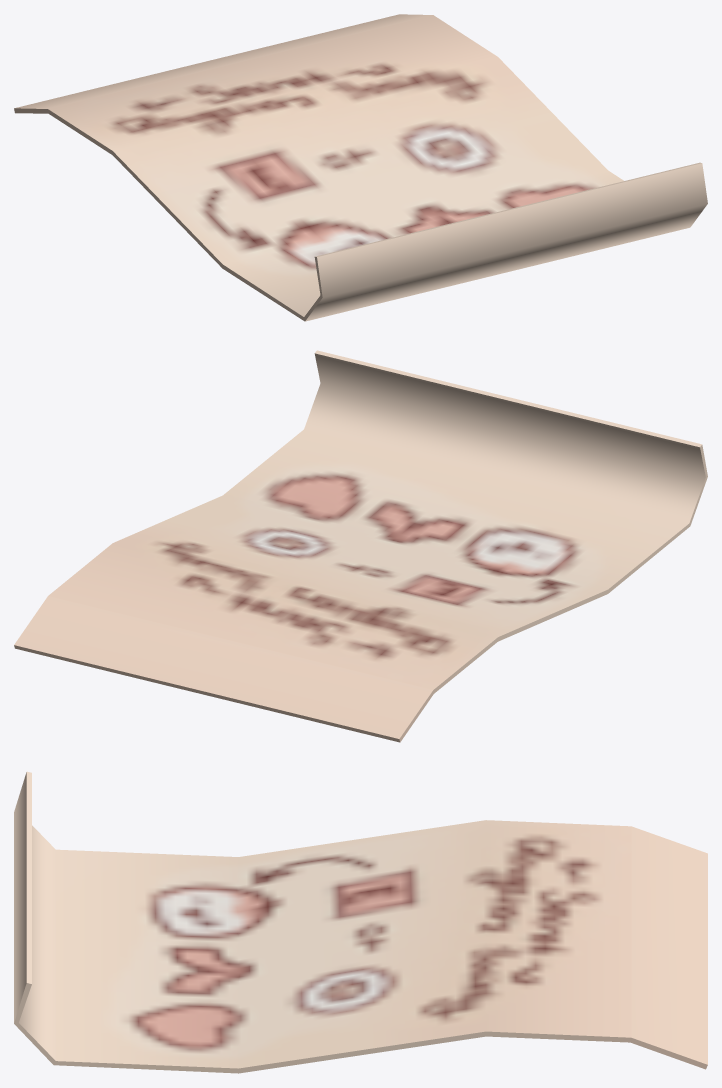
File: Asset_SecretGlowgazersSociety.fbx
3 renders of one model, top to bottom at view 1: azimuth 30°, elevation 25°; view 2: azimuth 150°, elevation 25°; view 3: azimuth 270°, elevation 25°, orthographic. The views are drawn at different scales.
Parts seen in each view (by area): view 1: Asset_SecretGlowgazersSociety; view 2: Asset_SecretGlowgazersSociety; view 3: Asset_SecretGlowgazersSociety.
Part boxes in pixels (x1=…): Asset_SecretGlowgazersSociety: x1=14, y1=14, x2=707, y2=321; Asset_SecretGlowgazersSociety: x1=14, y1=350, x2=707, y2=742; Asset_SecretGlowgazersSociety: x1=14, y1=771, x2=707, y2=1073.
Size of the model in its own units: 25.06 by 5.01 by 34.76.
